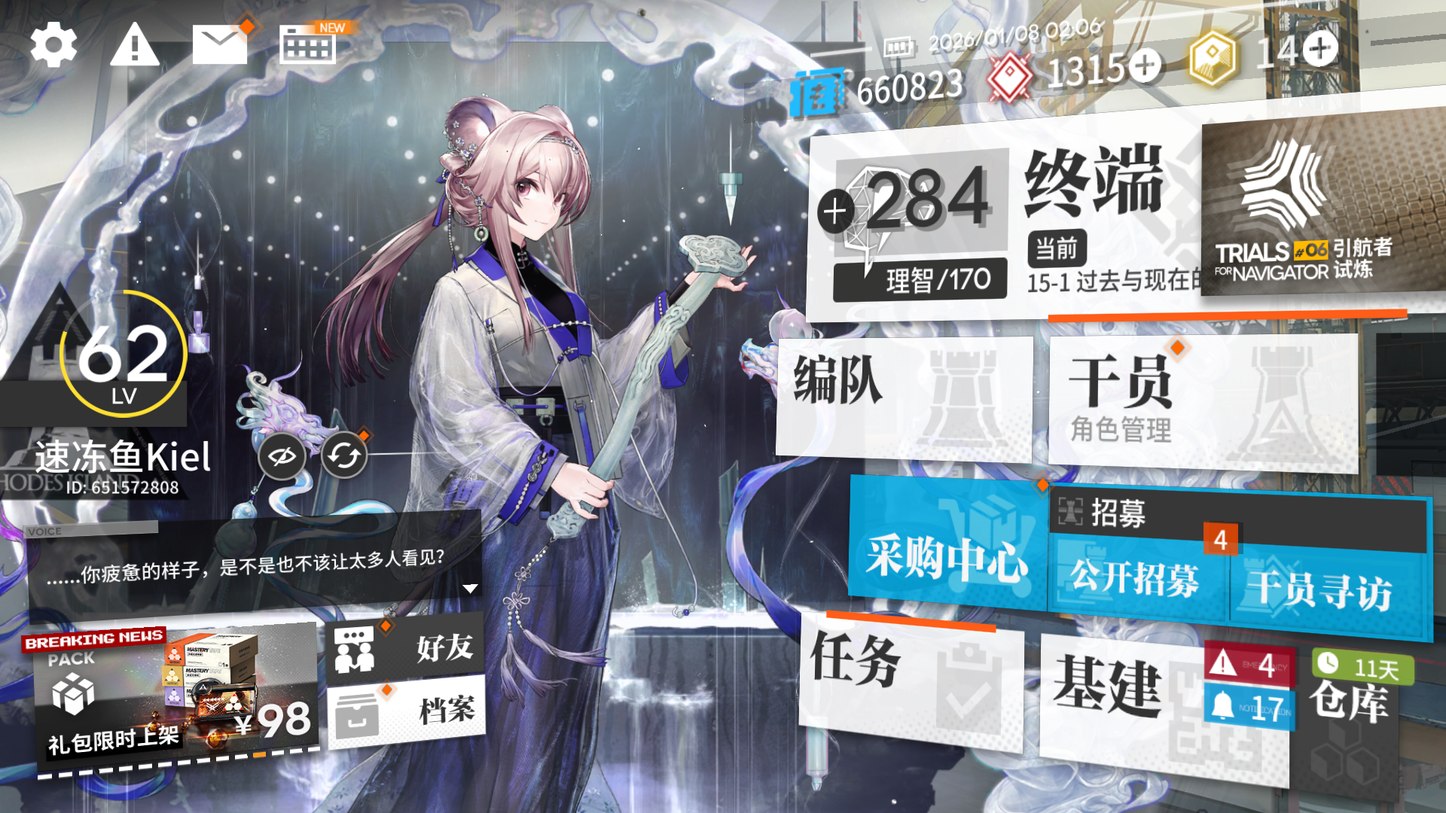home_button: (1006, 138, 1179, 232)
infrastructure_button: (1024, 634, 1296, 778)
